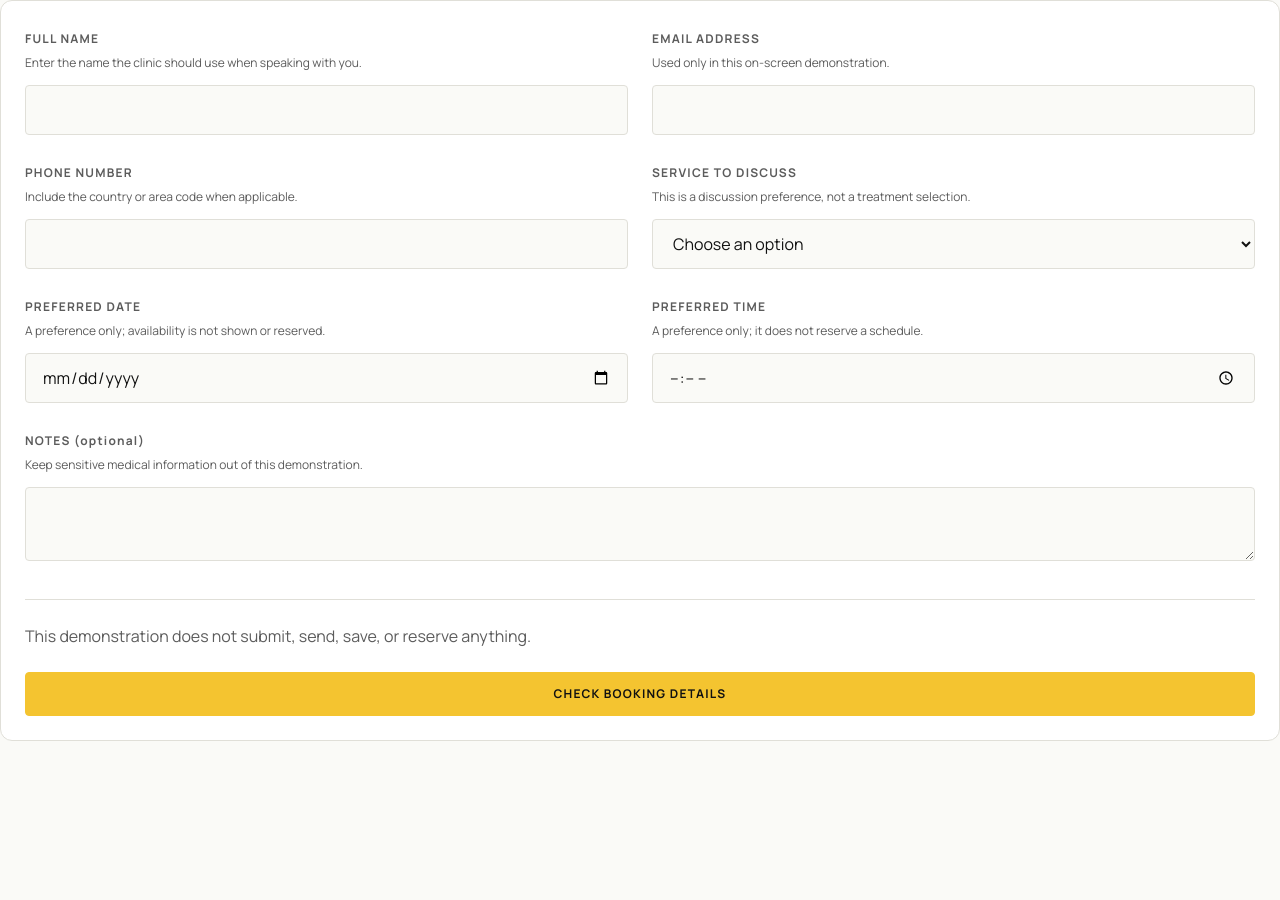
Scenario: BookingForm › announces validation errors and focuses the first invalid field
Click the button "Check booking details".
click(640, 694)  # box [25,672,1255,716]
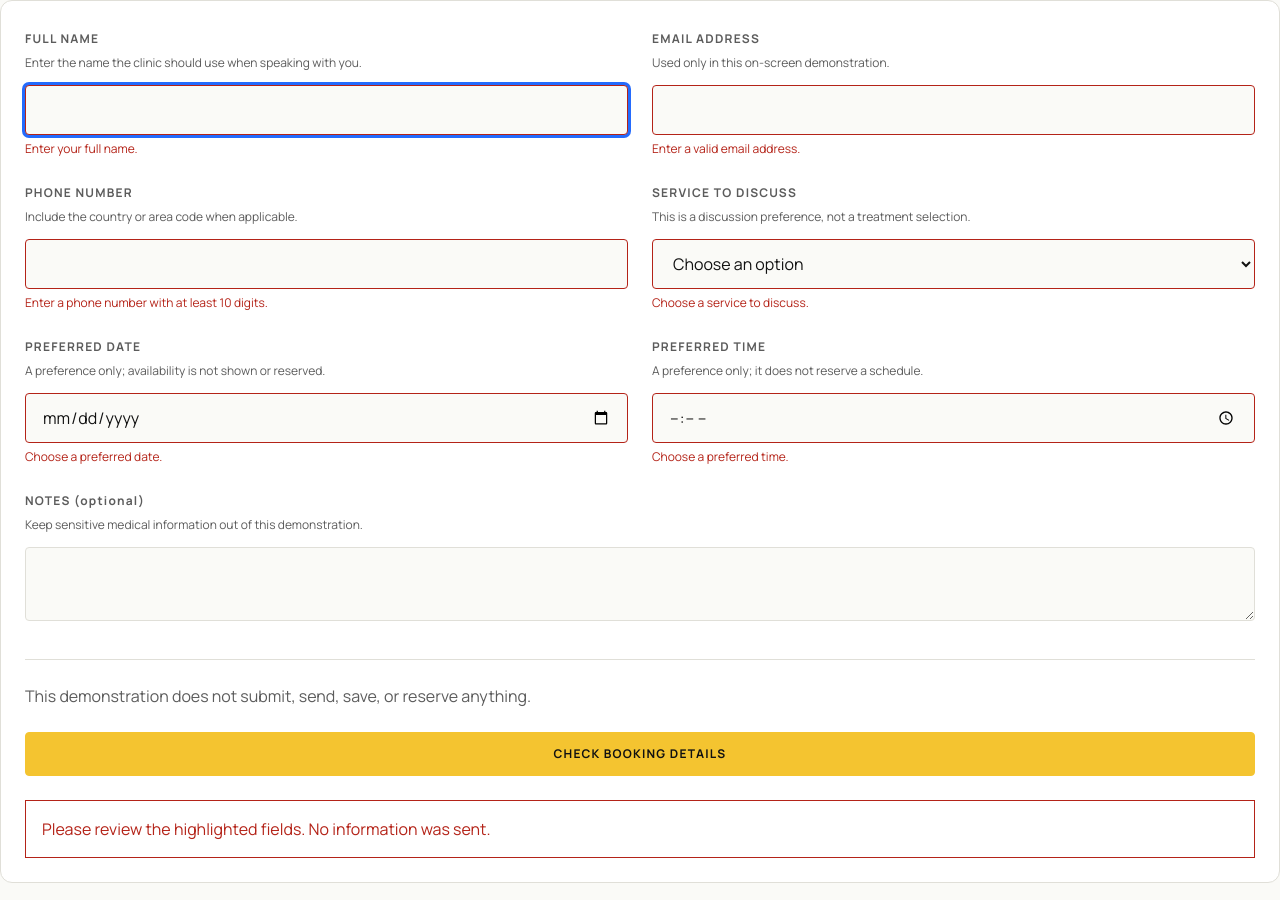
Now the message shows "No information was sent.", box [42,818,490,840]
